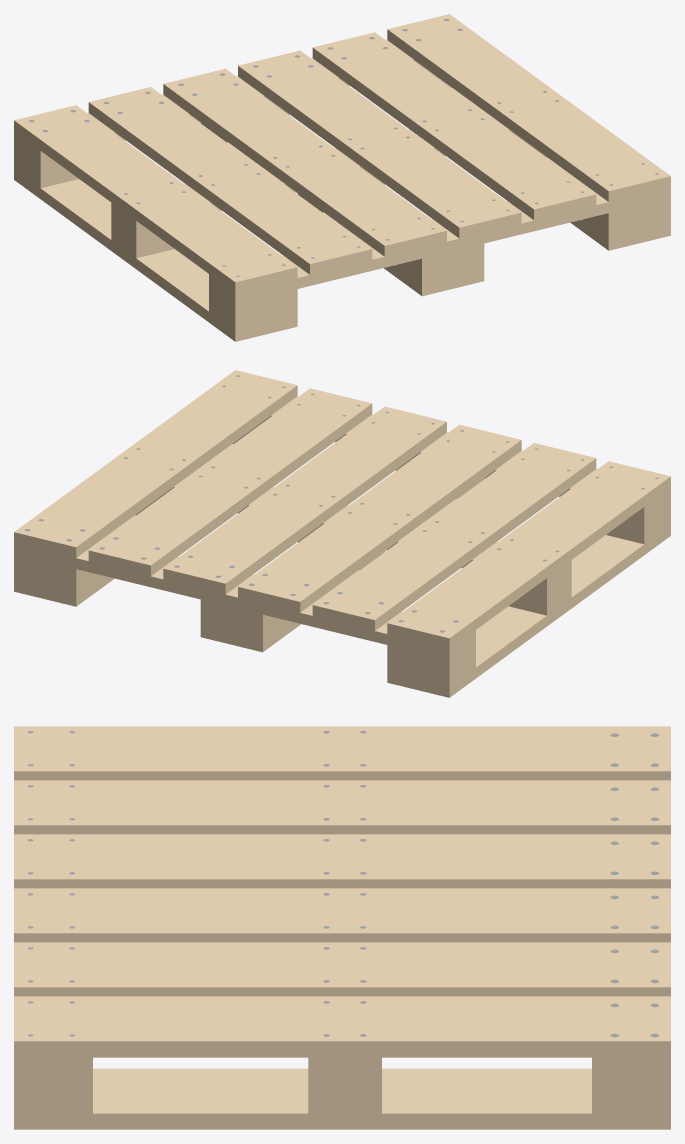
Rendered from palle.fbx.
3 views of the same model, one above another, from view 1: azimuth 30°, elevation 25°; view 2: azimuth 150°, elevation 25°; view 3: azimuth 270°, elevation 25° (orthographic). The views are drawn at different scales.
Visible parts, largest first — view 1: Top, Midt, Bund, Midt-modsat; view 2: Top, Bund, Midt, Midt-modsat; view 3: Top, Bund, Midt, Midt-modsat.
Boxes of the visible parts, bbox=[...] form: Top: bbox=[14, 14, 670, 293]; Midt: bbox=[14, 68, 670, 330]; Bund: bbox=[14, 88, 670, 341]; Midt-modsat: bbox=[14, 40, 670, 303]; Top: bbox=[14, 370, 670, 649]; Bund: bbox=[14, 444, 670, 697]; Midt: bbox=[14, 424, 670, 686]; Midt-modsat: bbox=[14, 396, 670, 659]; Top: bbox=[14, 726, 670, 1057]; Bund: bbox=[14, 1068, 670, 1129]; Midt: bbox=[14, 1073, 670, 1114]; Midt-modsat: bbox=[14, 1057, 670, 1073].
Size of the model in its own units: 173 by 22.66 by 153.
